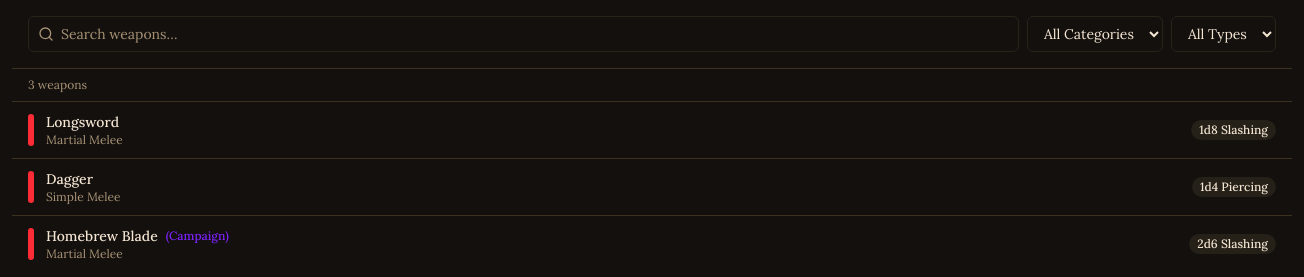
it: ItemsTab › filters by a config dropdown (weapon_category)
expect the text "Dagger" is shown: met, box [46, 169, 93, 189]
Select "Simple" in the dropdown with test id "item-filter-weapon_category" at (1095, 34), box [1027, 16, 1163, 52]
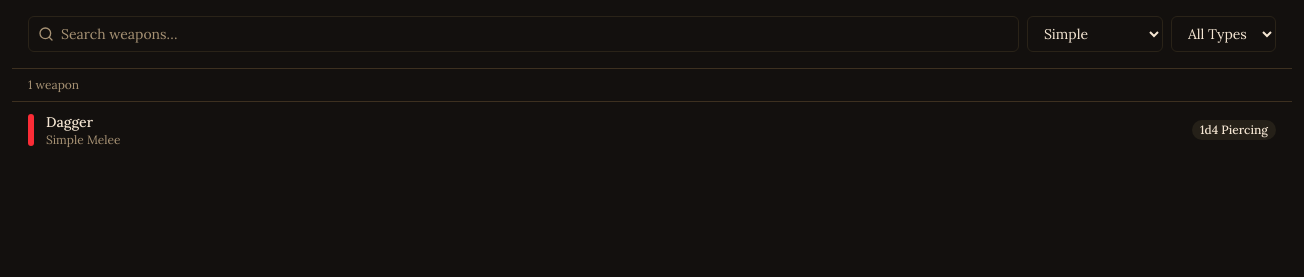
expect the text "Dagger" is shown: met, box [46, 112, 93, 132]
expect the button "Longsword" is gone: met
